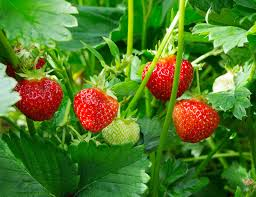Fresa: (9, 72, 66, 123), (139, 52, 196, 103), (71, 83, 122, 134), (171, 94, 222, 145)
